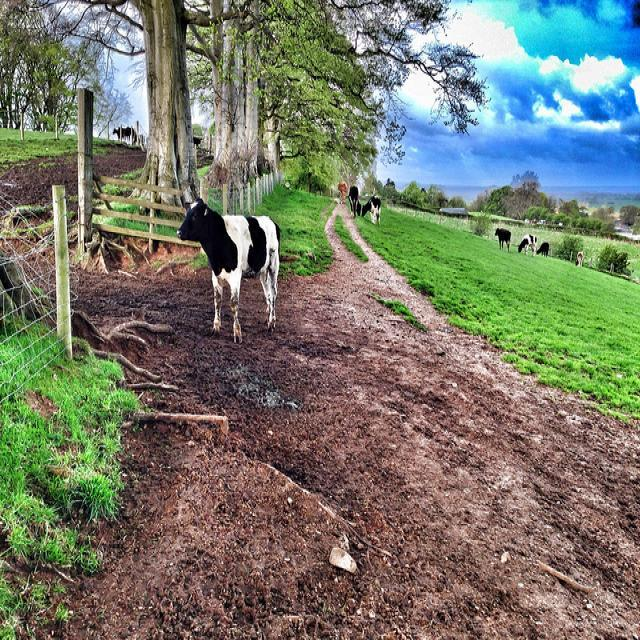cow: (175, 191, 283, 341), (347, 183, 379, 224), (493, 225, 510, 251), (516, 231, 536, 253), (534, 240, 548, 256), (335, 179, 345, 201), (123, 126, 130, 142), (574, 250, 581, 266)
